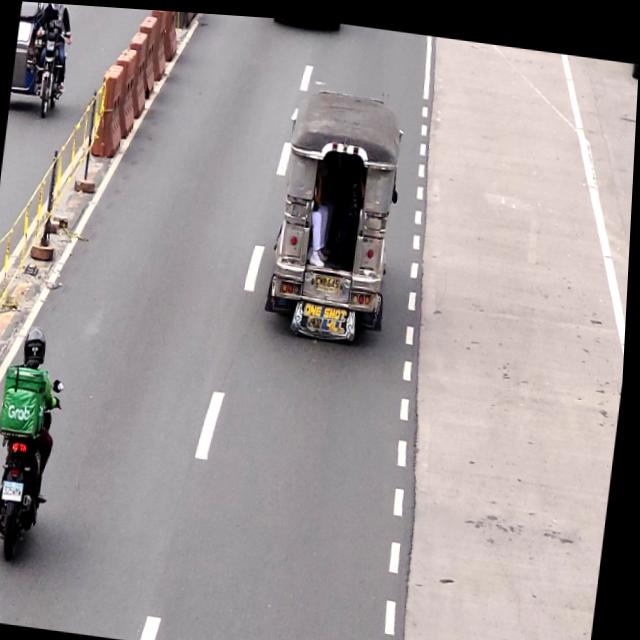Jeep: (271, 85, 406, 332)
License-Plate: (315, 267, 345, 294), (7, 479, 29, 504)
Motorcycle: (0, 321, 70, 560)
